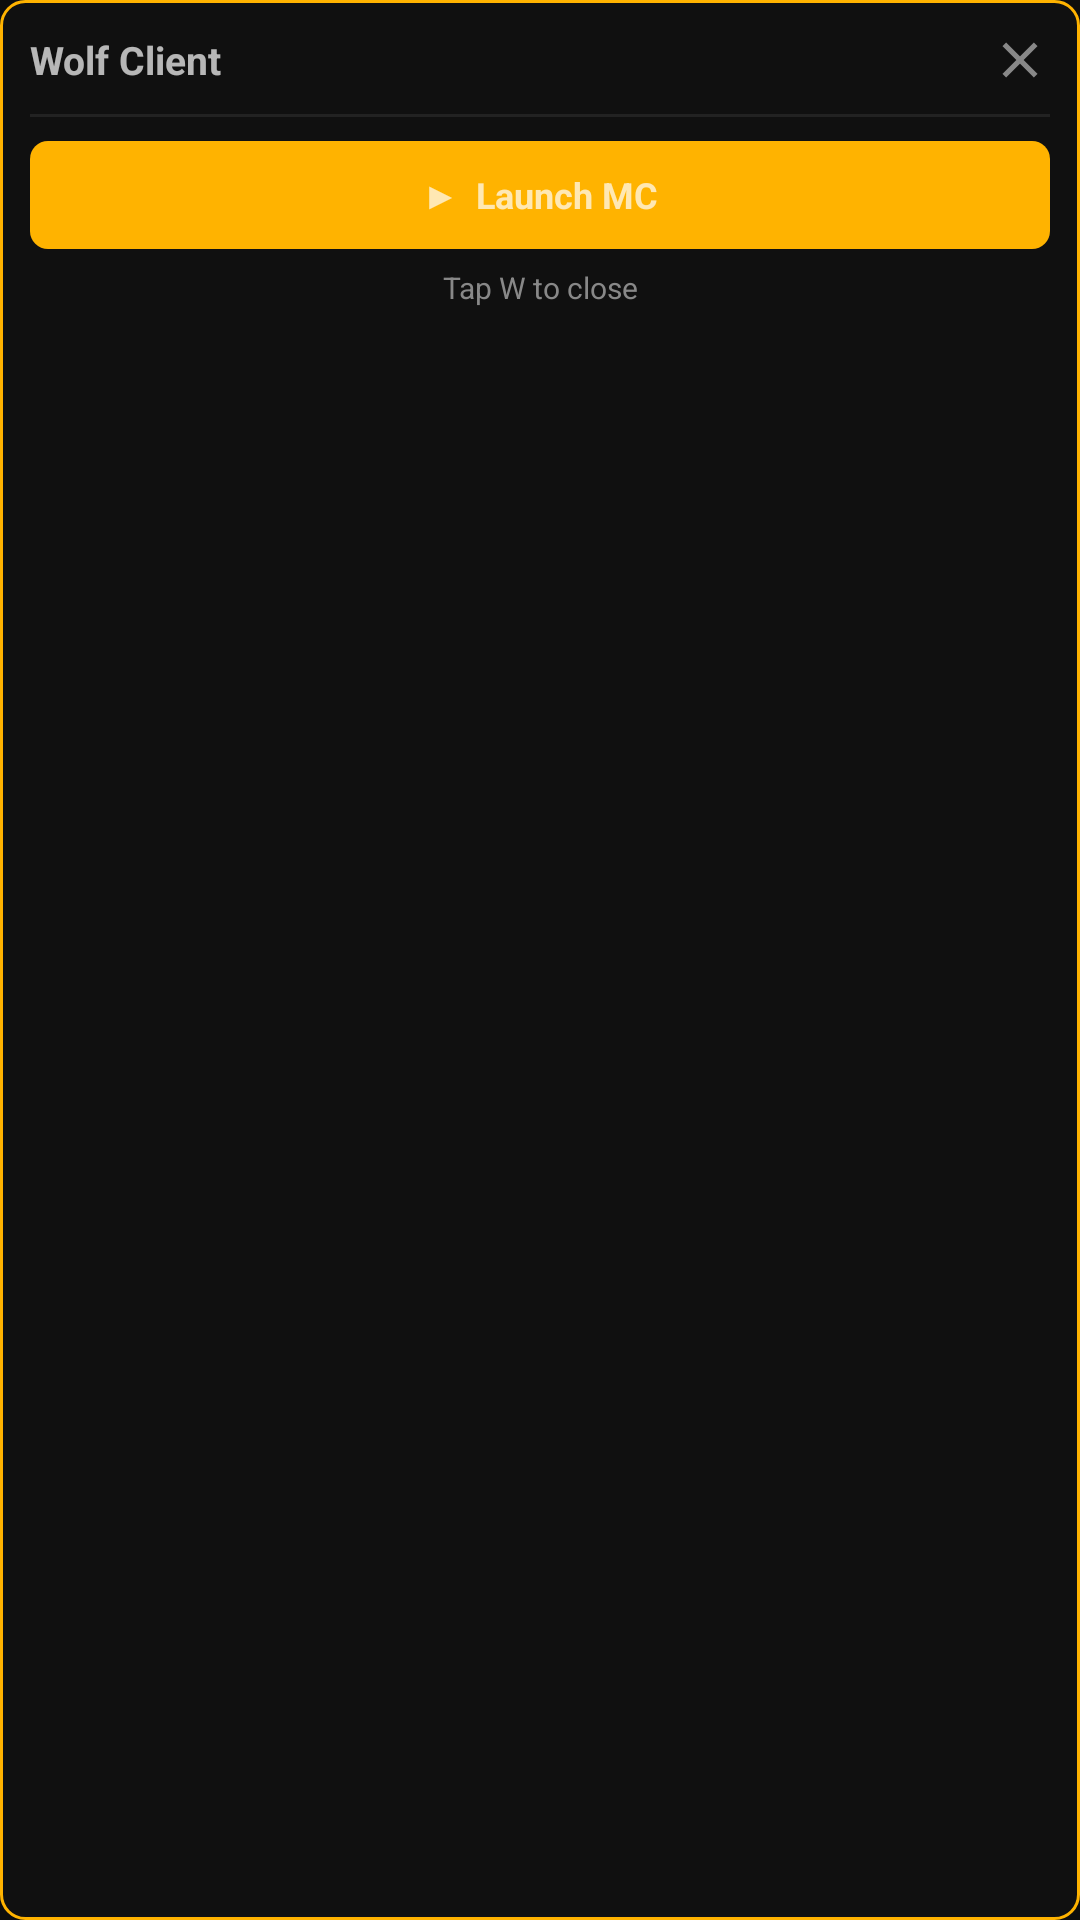

Icons on this 1080×1920 Android screen, each with the point to tap as point (x, y):
Close: point (1020, 60)
